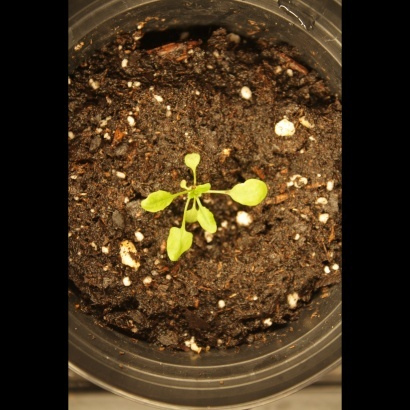leaf: (221, 167, 278, 210), (156, 221, 199, 267), (131, 186, 175, 217), (177, 148, 212, 178), (193, 203, 221, 232), (181, 182, 212, 208), (183, 206, 206, 229)
